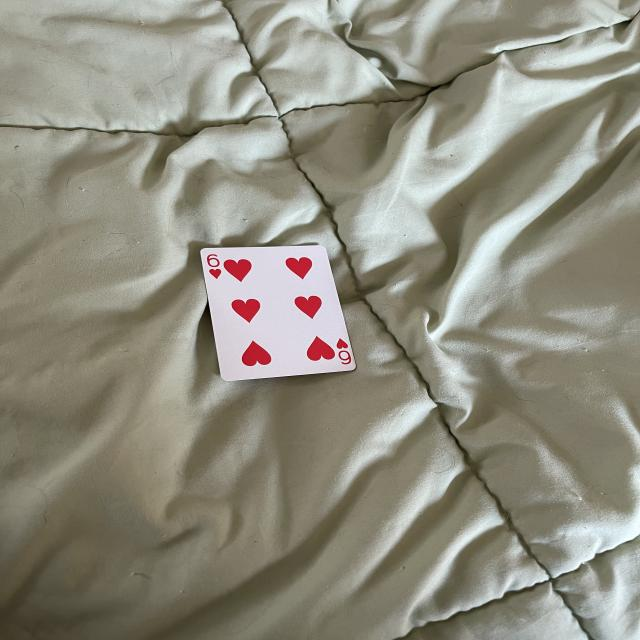6 of hearts: (199, 244, 362, 383)
